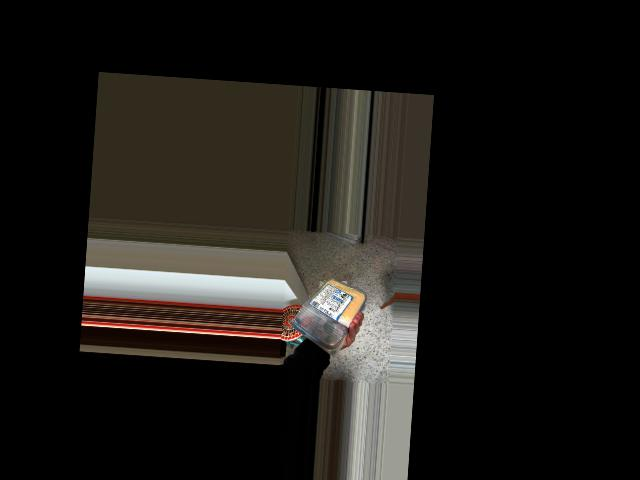cheese: (292, 273, 358, 346)
